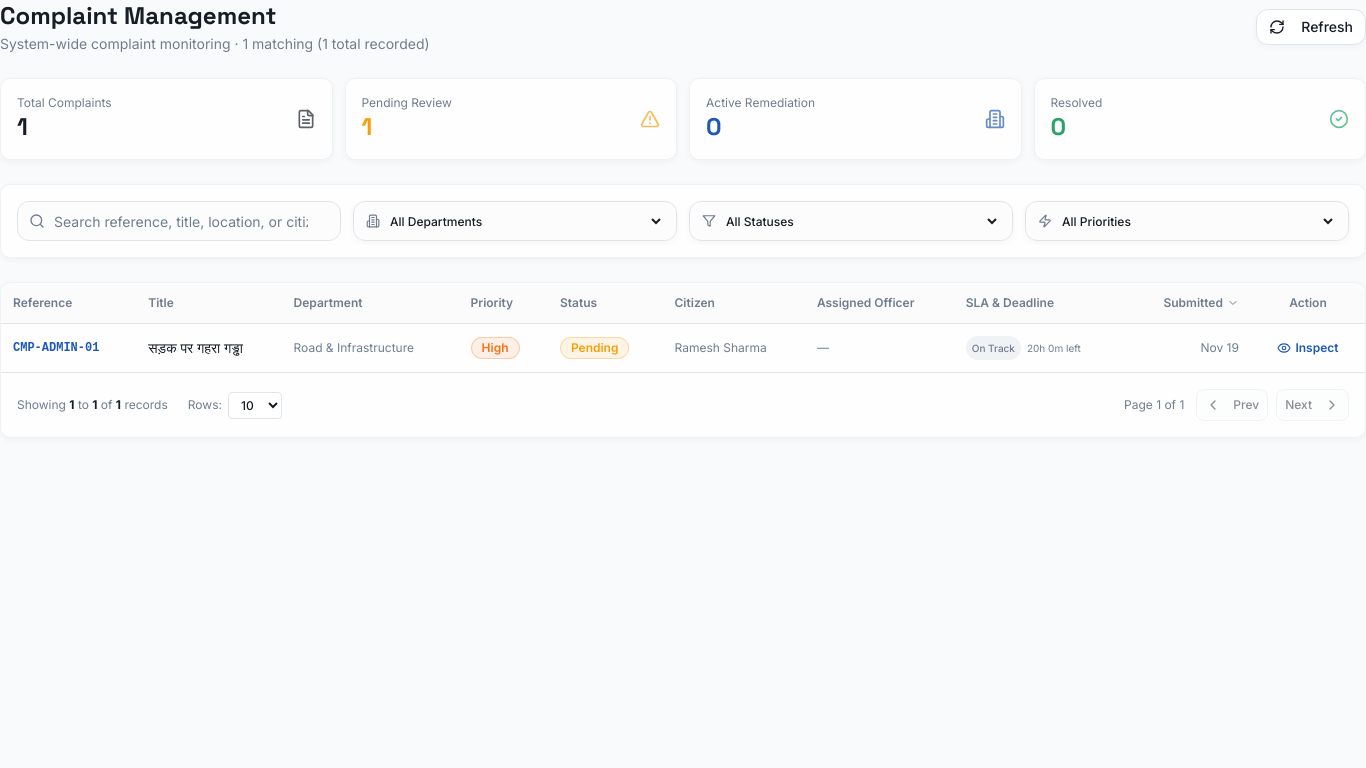
Test: Phase 4B — Gemini Reliability & Safe Fallback (Frontend) › Phase 6B — Multilingual Support & Translation Display › Admin Complaints Dossier renders Detected Language and English Translation in inspection modal
This screenshot has width=1366, height=768.
Expected: the text "सड़क पर गहरा गड्ढा" is shown, [136,324,282,372]
Click the button titled "View complaint dossier" at {"x": 1308, "y": 348}, box [1273,336,1342,360]
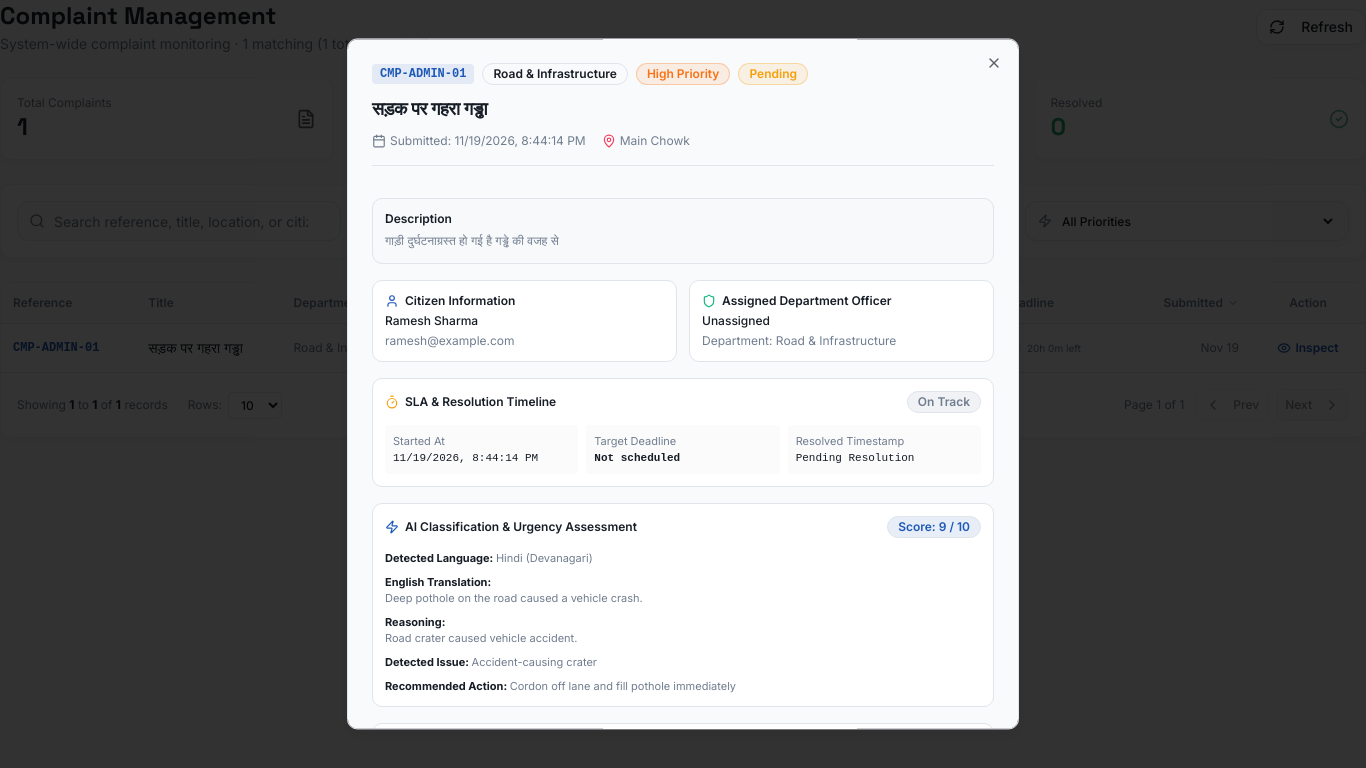
Result: the text "AI Classification & Urgency Assessment" is shown at [385,519,637,535]
Result: the text "Detected Language:" is shown at [385,551,496,565]
Result: the text "Hindi (Devanagari)" is shown at [496,551,593,565]
